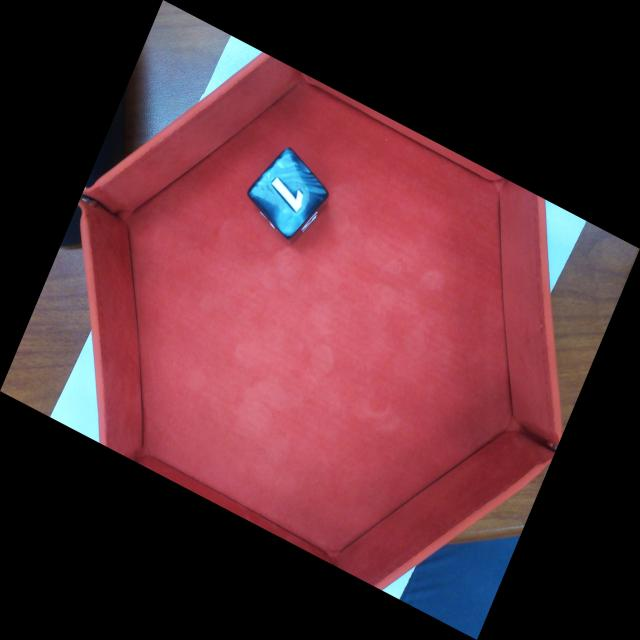dice: (251, 147, 331, 235)
